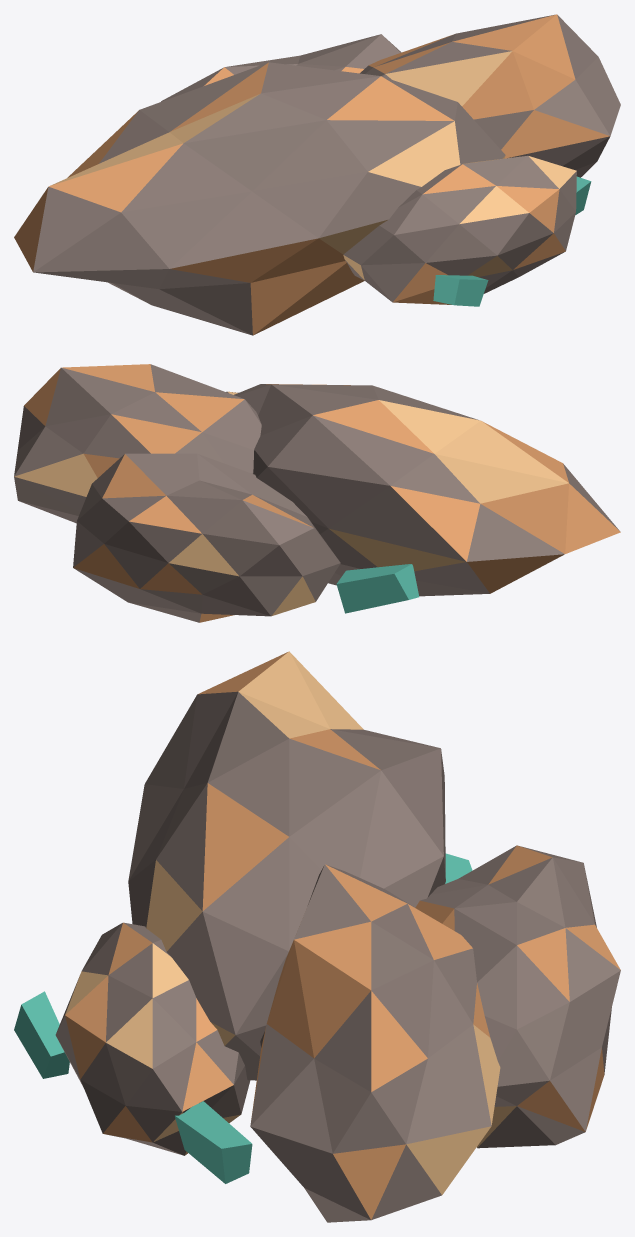
The model's file is copper_ore.glb.
3 renders of one model, top to bottom at view 1: azimuth 30°, elevation 25°; view 2: azimuth 150°, elevation 25°; view 3: azimuth 270°, elevation 25°, orthographic. The views are drawn at different scales.
Parts seen in each view (by area): view 1: copper_ore; view 2: copper_ore; view 3: copper_ore.
Boxes of the visible parts, box(x1,y1,x2,y2) form: copper_ore: box(14, 14, 620, 335); copper_ore: box(14, 364, 620, 622); copper_ore: box(14, 651, 620, 1222).
Size of the model in its own units: 0.5528 by 0.1845 by 0.3334.
